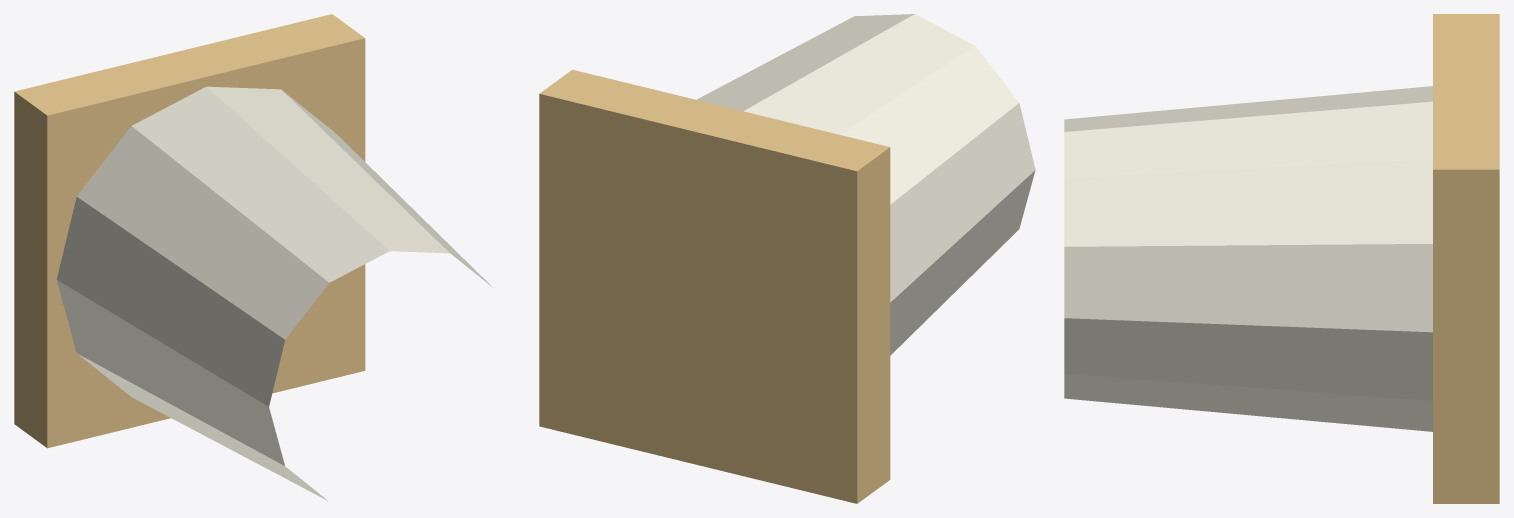
File: disposable_cup.glb
The picture shows the model from 3 angles, left to right: view 1: azimuth 30°, elevation 25°; view 2: azimuth 150°, elevation 25°; view 3: azimuth 270°, elevation 25°; orthographic projection.
Parts seen in each view (by area): view 1: disposable_cup; view 2: disposable_cup; view 3: disposable_cup.
Part boxes in pixels (x1,y1,x2,y2): disposable_cup: (14,14,492,500); disposable_cup: (539,14,1035,503); disposable_cup: (1064,14,1499,503).
Bounding box in the file's own units: 0.1 × 0.1 × 0.118.
